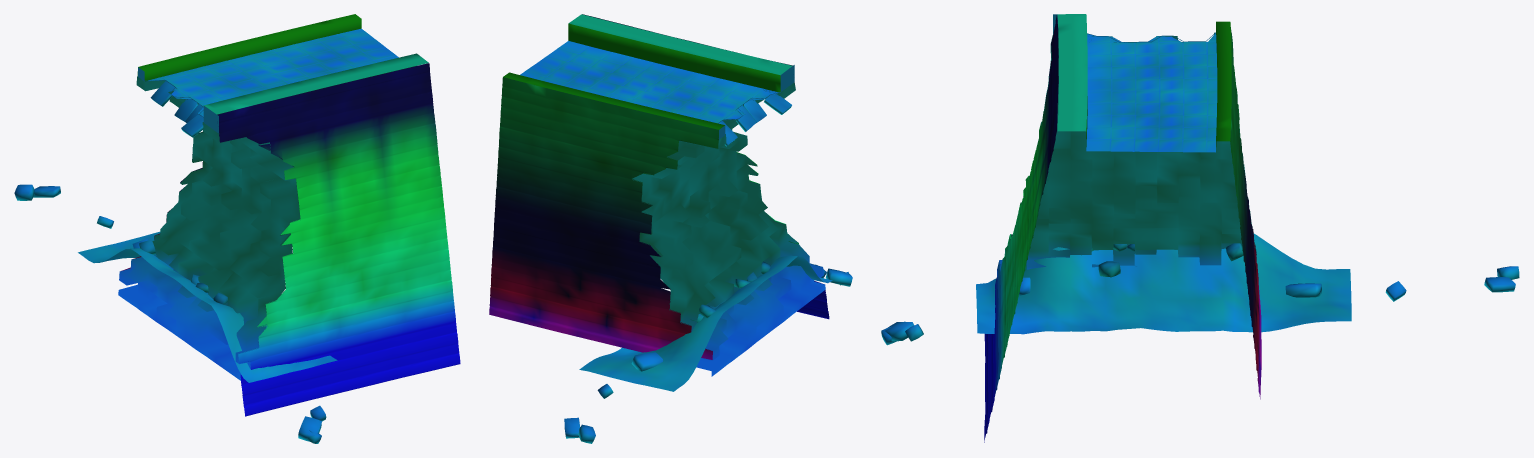
The model's file is seawall_breach_end_e.glb.
3 views of the same model, side by side, from view 1: azimuth 30°, elevation 25°; view 2: azimuth 150°, elevation 25°; view 3: azimuth 270°, elevation 25° (orthographic). The views are drawn at different scales.
Visible parts, largest first — view 1: seawall_breach_end_e; view 2: seawall_breach_end_e; view 3: seawall_breach_end_e.
Boxes of the visible parts, left/top/right/bottom form: seawall_breach_end_e: left=14, top=14, right=460, bottom=443; seawall_breach_end_e: left=489, top=14, right=852, bottom=443; seawall_breach_end_e: left=881, top=14, right=1519, bottom=442.
Size of what is drawn, in the model's own units: 12.42 by 14.57 by 26.58.
